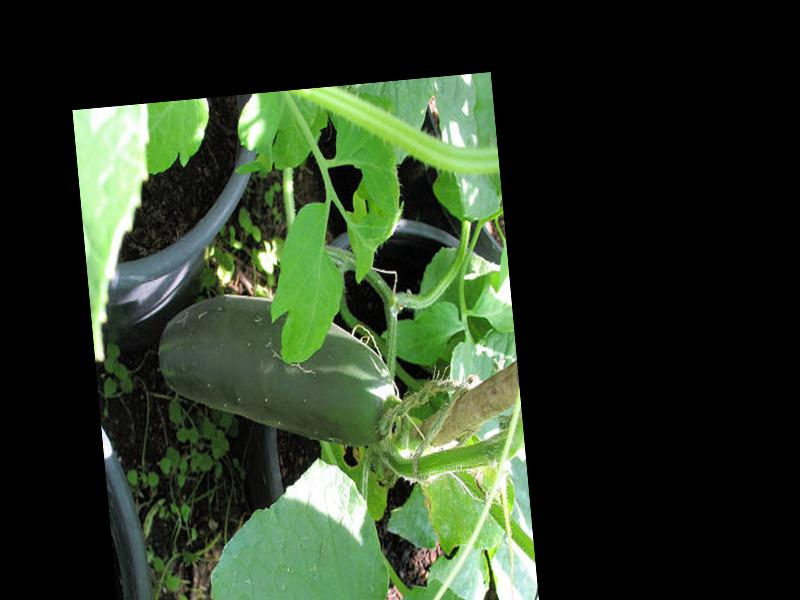Cucumber: (153, 281, 401, 464)
